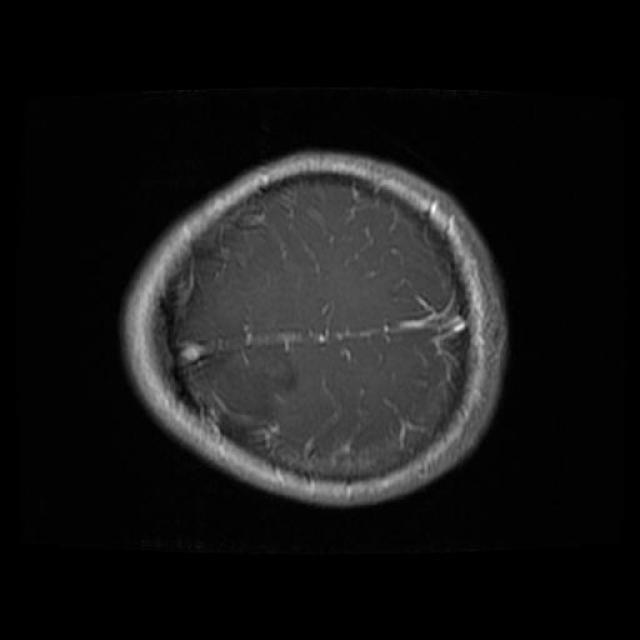Glioma: (222, 361, 296, 433)
